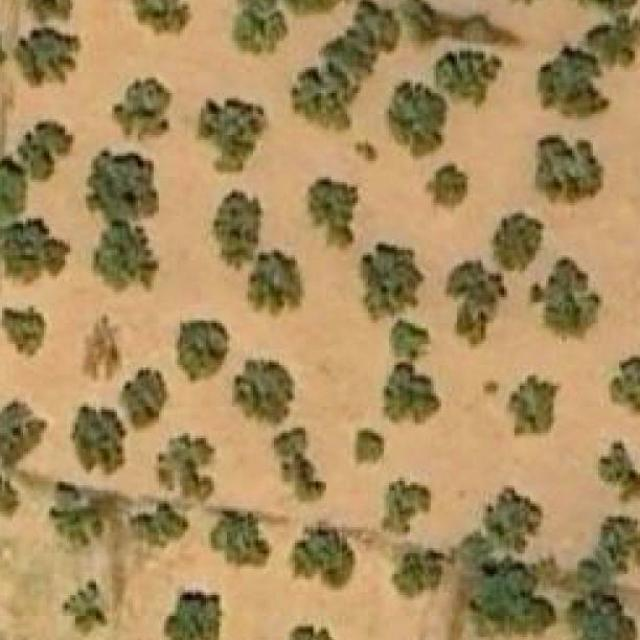Tree: (467, 561, 556, 640), (530, 258, 602, 335), (530, 135, 604, 206), (198, 98, 266, 175), (361, 242, 423, 323), (387, 80, 450, 159), (86, 150, 159, 218), (447, 263, 507, 344), (0, 218, 73, 284), (242, 250, 308, 321), (91, 224, 159, 292), (209, 190, 265, 269), (12, 27, 84, 88), (536, 57, 606, 119), (272, 426, 327, 504), (230, 360, 293, 428), (200, 509, 266, 572), (110, 78, 176, 140), (434, 51, 502, 109), (308, 177, 361, 248), (384, 363, 441, 429), (292, 62, 352, 124), (73, 404, 129, 470), (159, 433, 214, 499), (173, 321, 230, 384), (161, 586, 221, 640), (509, 376, 562, 436), (18, 119, 68, 182), (290, 527, 347, 579), (52, 485, 100, 546), (496, 213, 546, 271), (481, 494, 533, 549), (585, 14, 640, 64), (122, 368, 168, 424), (598, 440, 640, 501), (570, 600, 633, 640), (376, 480, 424, 532), (133, 0, 193, 39), (2, 307, 44, 360), (131, 506, 186, 546), (0, 404, 36, 463), (394, 553, 442, 595), (232, 15, 282, 51), (610, 354, 640, 412), (428, 164, 467, 206), (392, 320, 429, 360), (70, 588, 105, 630), (274, 0, 340, 20), (0, 164, 23, 220), (356, 431, 390, 467), (28, 0, 76, 20), (284, 623, 337, 640), (572, 0, 635, 12), (356, 140, 380, 164), (236, 0, 271, 12), (0, 462, 7, 517)
